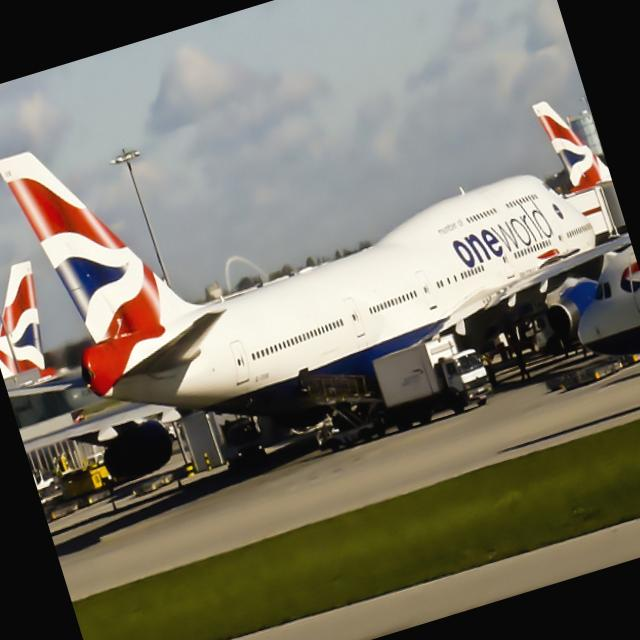Vehicle: (372, 328, 495, 433), (51, 442, 114, 501)
